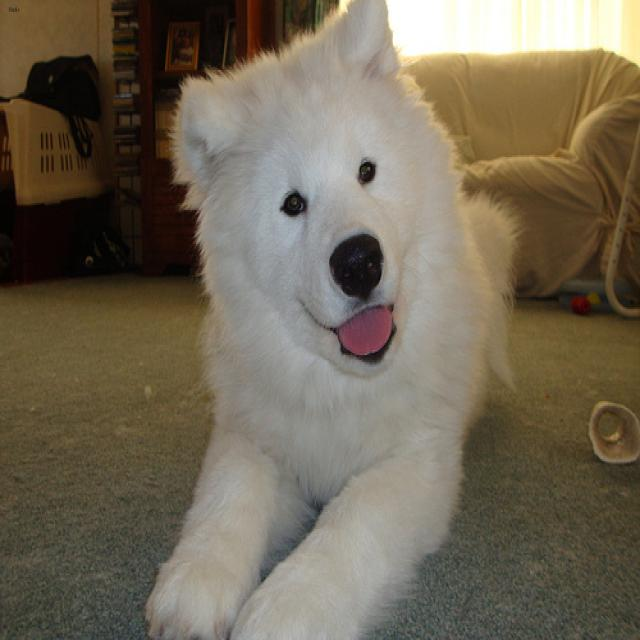dog-samoyed: (140, 2, 520, 637)
